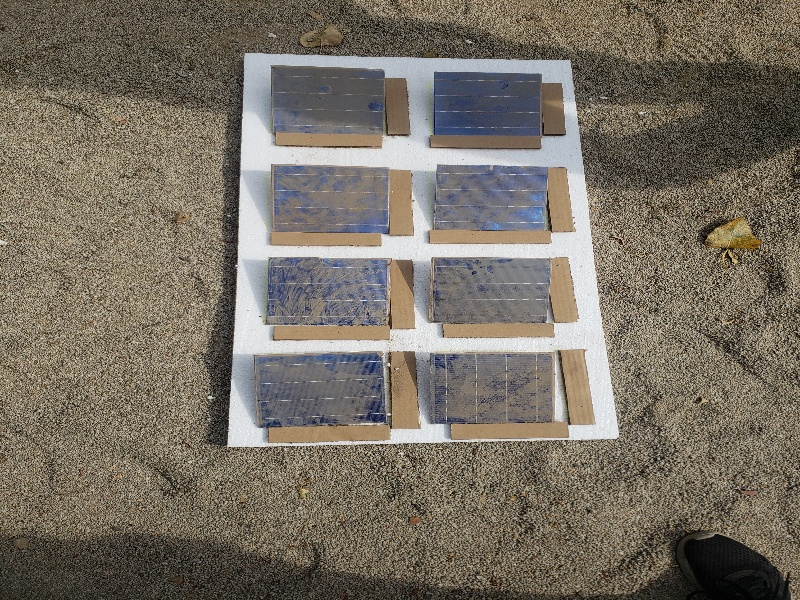dirty: (427, 351, 563, 424), (250, 356, 390, 426), (267, 68, 387, 143), (429, 257, 553, 322), (267, 257, 389, 323), (265, 169, 388, 232), (429, 73, 549, 137), (434, 166, 552, 230)
